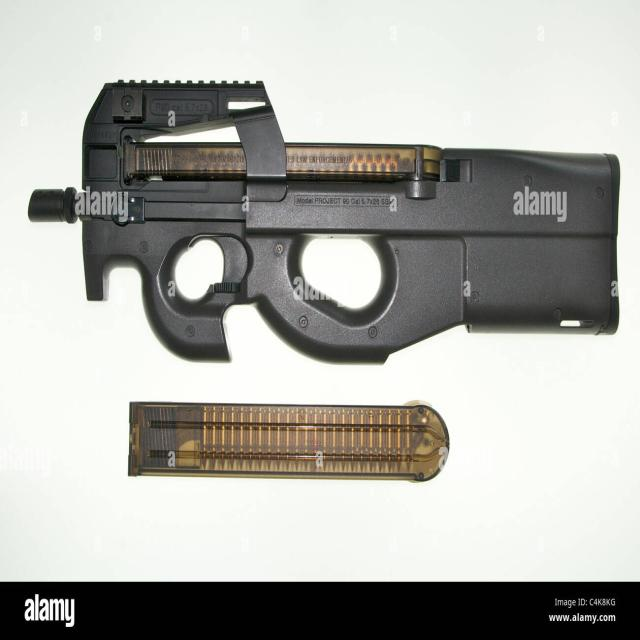SMG: (29, 81, 622, 365)
